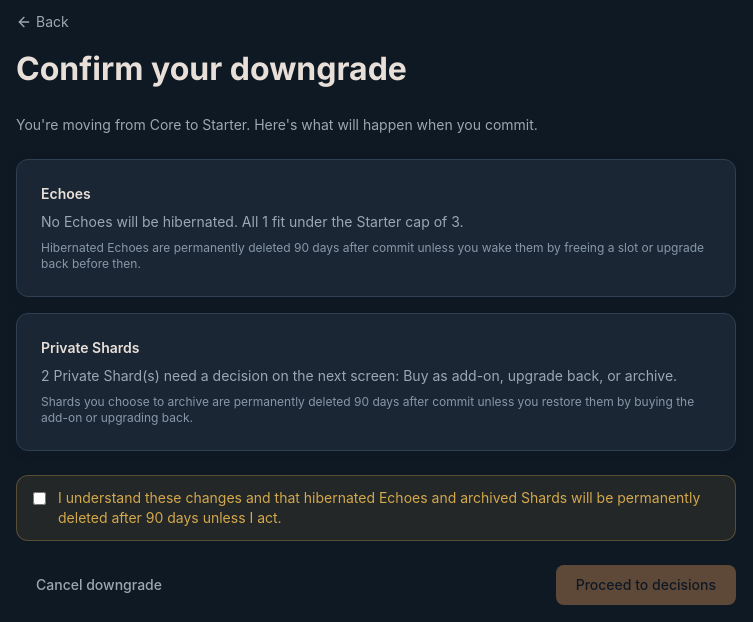
Test: DowngradeConfirmPage — ME-MIS-001 §5.2 Surface C › gates the Proceed button behind the consent checkbox
Expected: the button "Proceed to decisions" is disabled, [556, 565, 736, 605]
Click the checkbox at (40,498), box [33, 492, 46, 505]
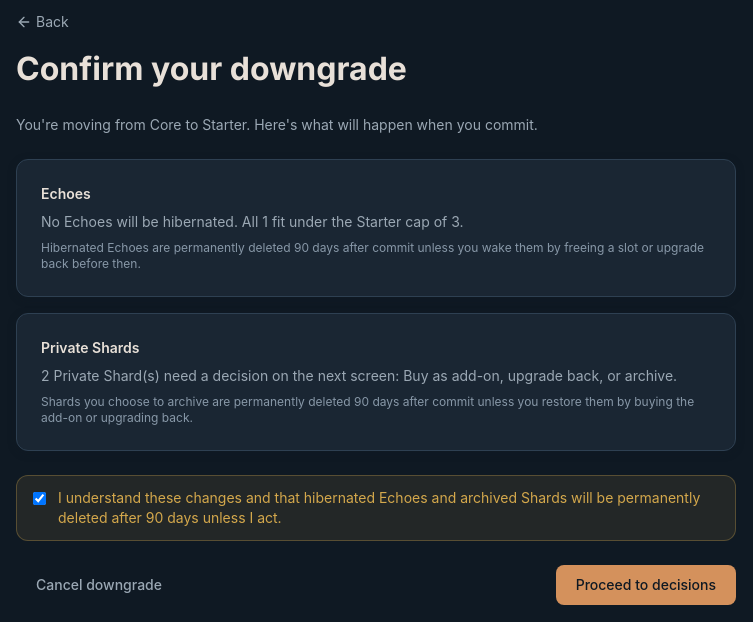
Expected: the button "Proceed to decisions" is enabled, [556, 565, 736, 605]
